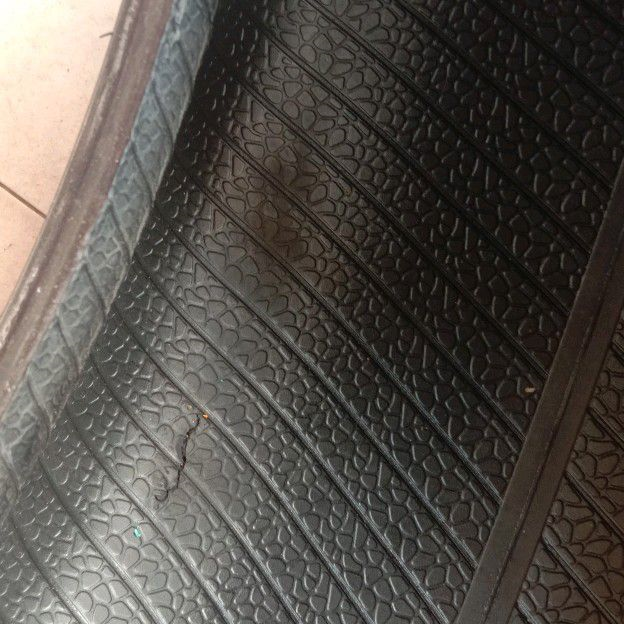CBU: (151, 407, 211, 510)
